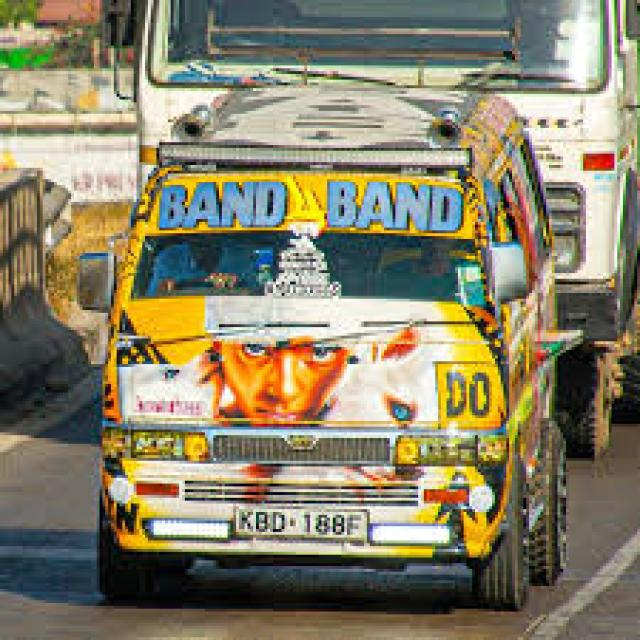matatu: (42, 67, 584, 616)
